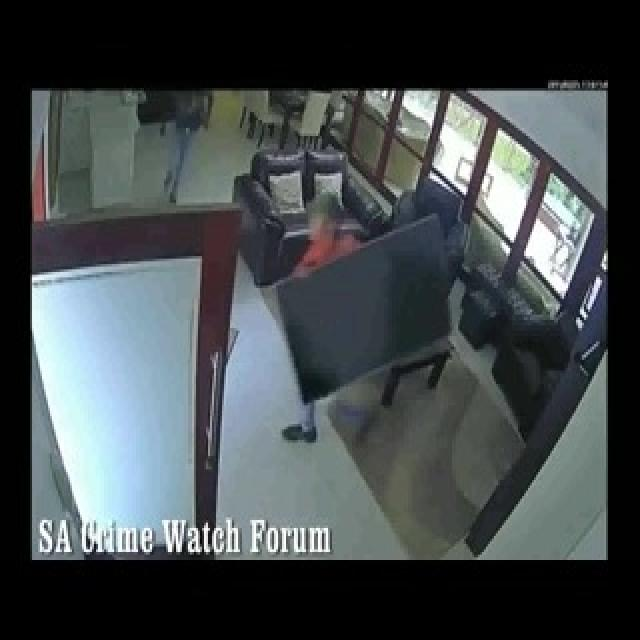thief: (292, 185, 362, 277), (167, 96, 184, 136)
